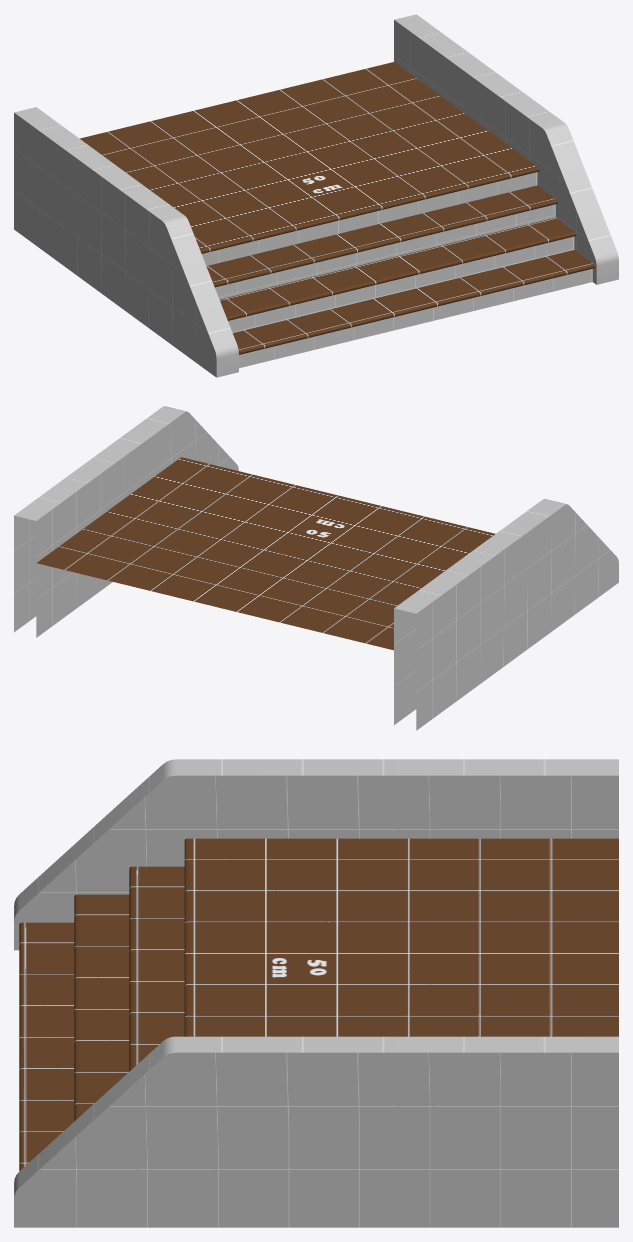
File: M01StairCase02_2.FBX
The picture shows the model from 3 angles, top to bottom: view 1: azimuth 30°, elevation 25°; view 2: azimuth 150°, elevation 25°; view 3: azimuth 270°, elevation 25°; orthographic projection. The views are drawn at different scales.
Visible parts, largest first — view 1: M01StairCase02_2; view 2: M01StairCase02_2; view 3: M01StairCase02_2.
Boxes of the visible parts, x1,y1,x2,y2 form: M01StairCase02_2: [14, 14, 618, 377]; M01StairCase02_2: [14, 406, 618, 730]; M01StairCase02_2: [14, 759, 618, 1227].
Size of what is drawn, in the model's own units: 4.5 by 1.25 by 3.92.
